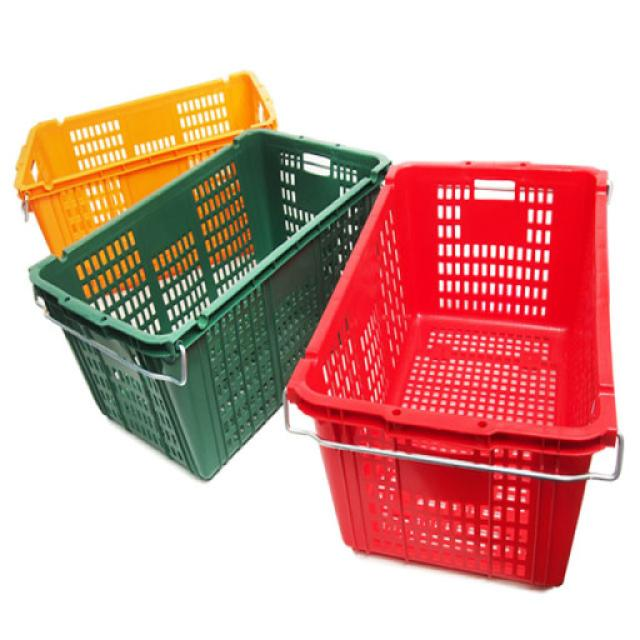basket: (12, 68, 479, 509), (278, 159, 629, 594), (0, 15, 285, 258)
